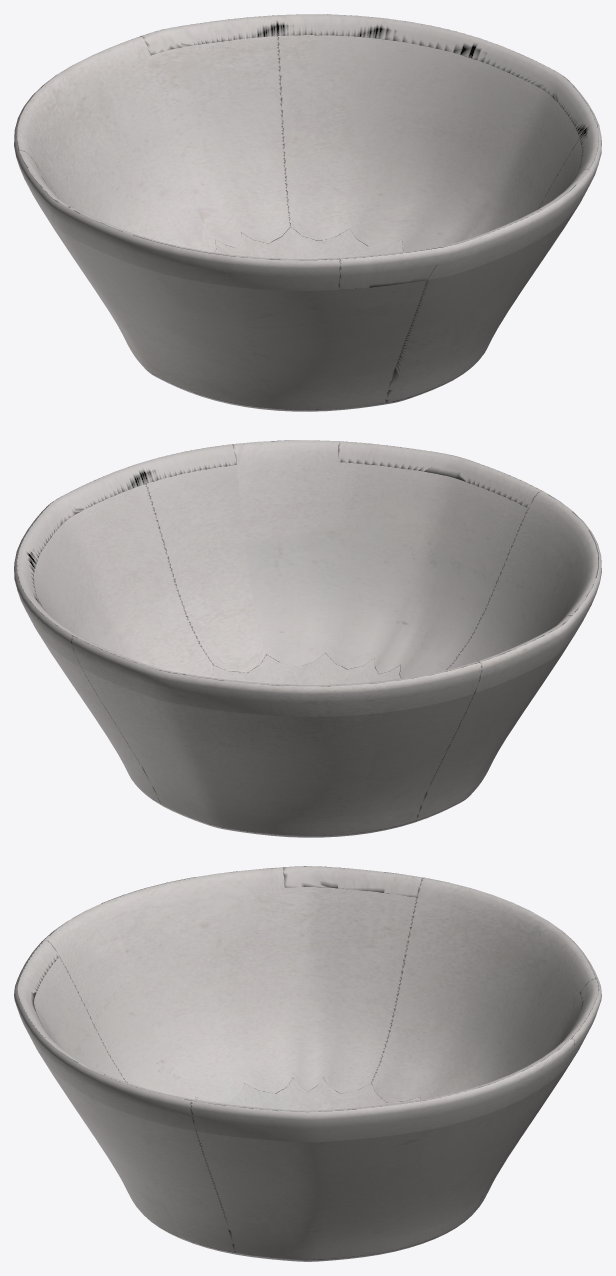
The model's file is mangkok.fbx.
3 views of the same model, one above another, from view 1: azimuth 30°, elevation 25°; view 2: azimuth 150°, elevation 25°; view 3: azimuth 270°, elevation 25° (orthographic).
Parts seen in each view (by area): view 1: Ase.001_Baked.009; view 2: Ase.001_Baked.009; view 3: Ase.001_Baked.009.
Part boxes in pixels (x1,y1,x2,y2): Ase.001_Baked.009: [14, 14, 601, 411]; Ase.001_Baked.009: [14, 440, 601, 837]; Ase.001_Baked.009: [14, 866, 601, 1261].
Size of the model in its own units: 192 by 71.11 by 192.
